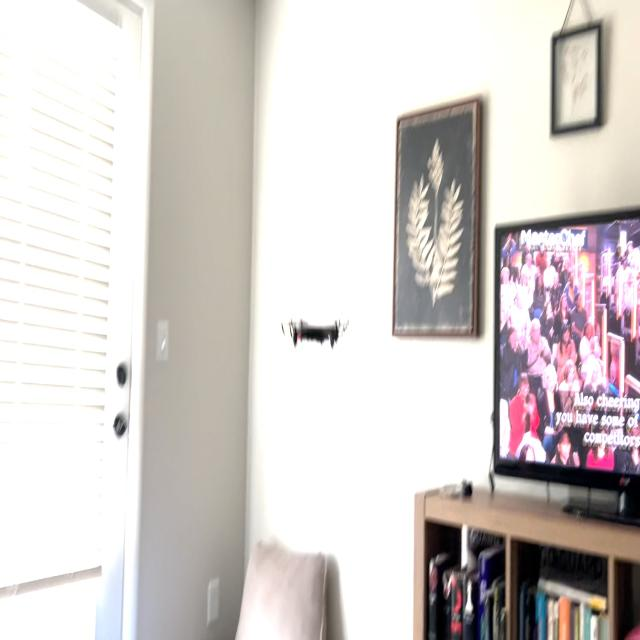drone: (270, 292, 360, 356)
